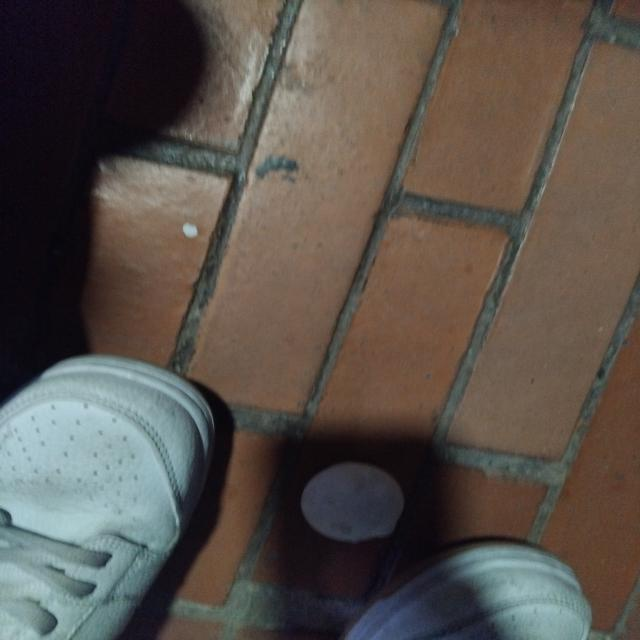Hongo: (293, 456, 411, 550)
